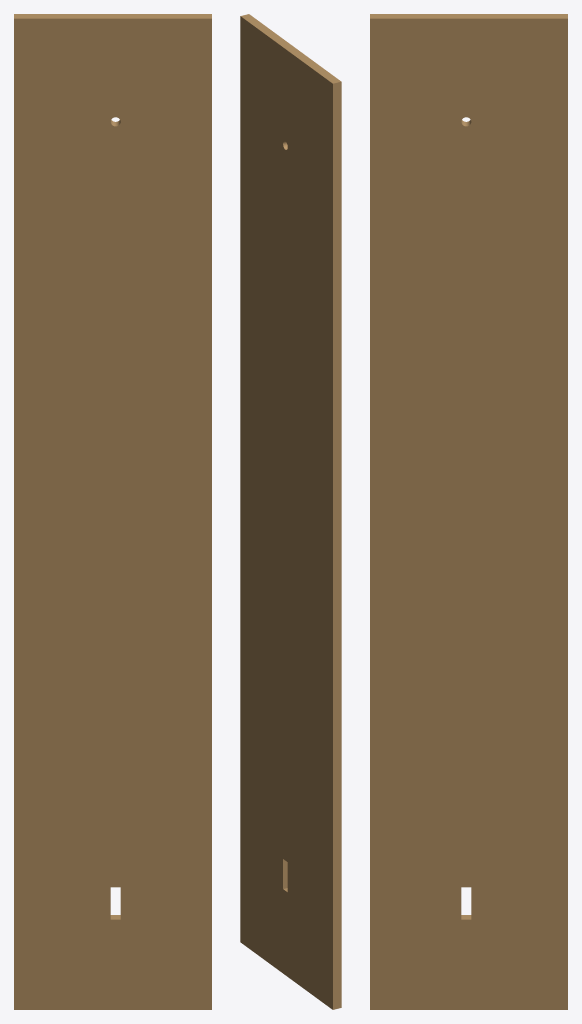
Rendered from elev_lateral.glb.
The picture shows the model from 3 angles, left to right: view 1: azimuth 90°, elevation 25°; view 2: azimuth 210°, elevation 25°; view 3: azimuth 270°, elevation 25°; orthographic projection. The views are drawn at different scales.
Parts seen in each view (by area): view 1: elev_lateral; view 2: elev_lateral; view 3: elev_lateral.
Boxes of the visible parts, <box> form: elev_lateral: <box>14,14,211,1009</box>; elev_lateral: <box>240,14,341,1009</box>; elev_lateral: <box>370,14,567,1009</box>.
Size of the model in its own units: 6 by 614 by 111.
